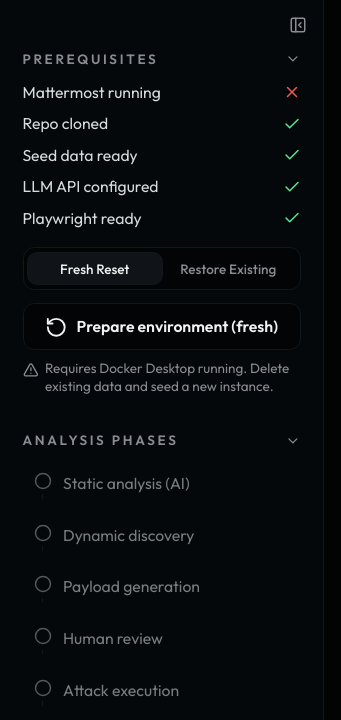
Test case: Sidebar › shows a prerequisites-not-ready indicator on the collapsed rail when the target is down
The image size is (341, 720).
Step 1. Click the button named "collapse sidebar" → (298, 25), box [282,9,314,40]
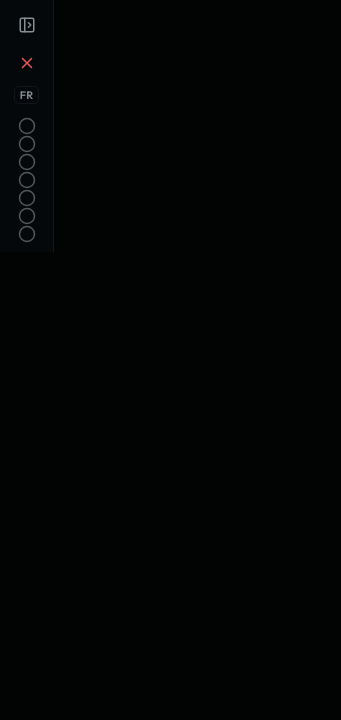
Expected: the element named "Prerequisites not ready" is shown, [18,54,36,72]
